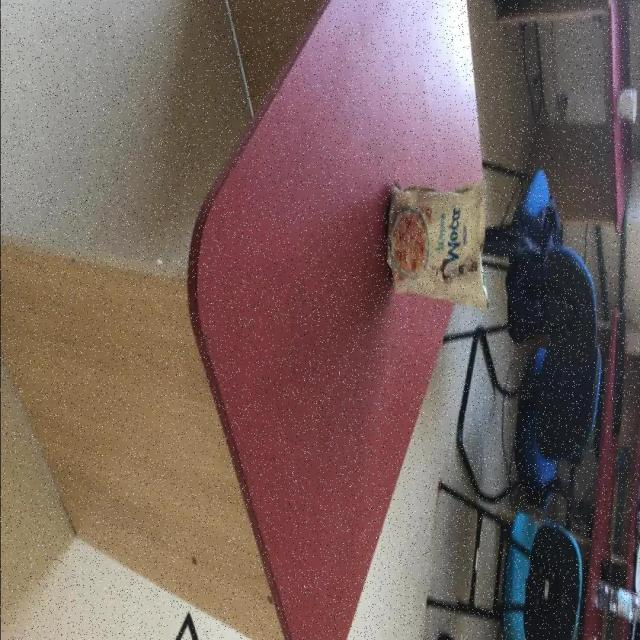CornFlakes: (386, 178, 489, 312), (391, 211, 429, 278)
